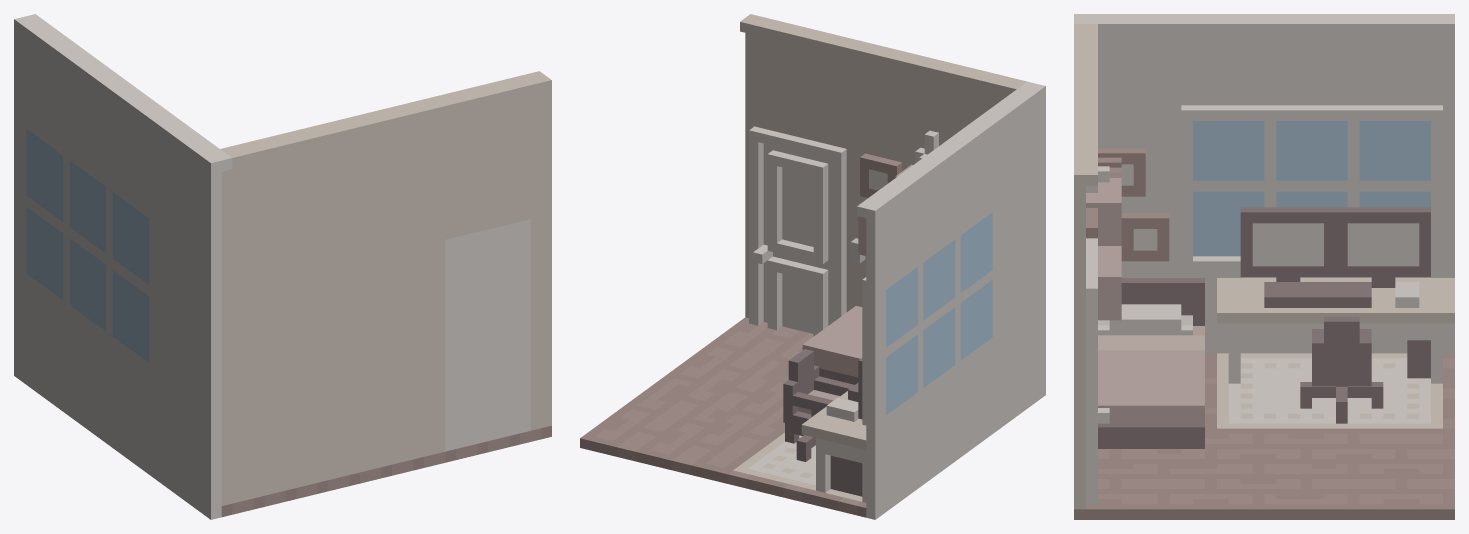
File: room.glb
3 views of the same model, side by side, from view 1: azimuth 30°, elevation 25°; view 2: azimuth 150°, elevation 25°; view 3: azimuth 270°, elevation 25° (orthographic). The views are drawn at different scales.
Parts seen in each view (by area): view 1: Object_2; view 2: Object_2; view 3: Object_2.
Boxes of the visible parts, x1,y1,x2,y2 form: Object_2: [14, 14, 551, 519]; Object_2: [580, 14, 1045, 519]; Object_2: [1074, 14, 1454, 519].
Size of the model in its own units: 32 by 32 by 32.
